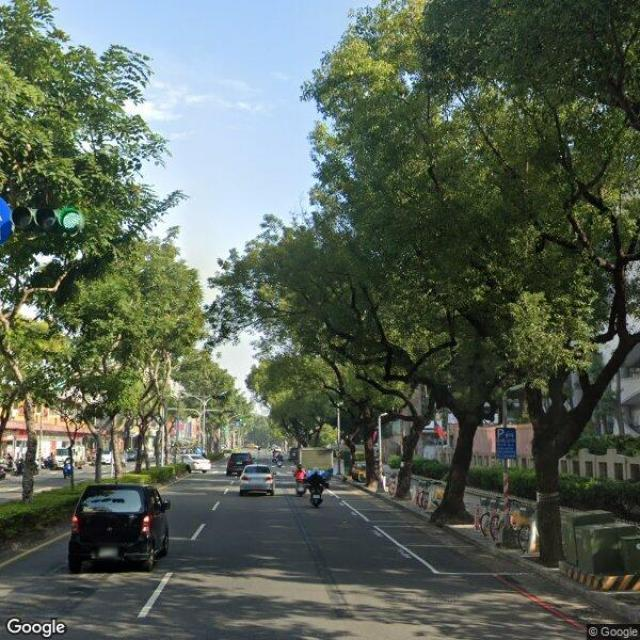Legalparking: (477, 497, 542, 558)
